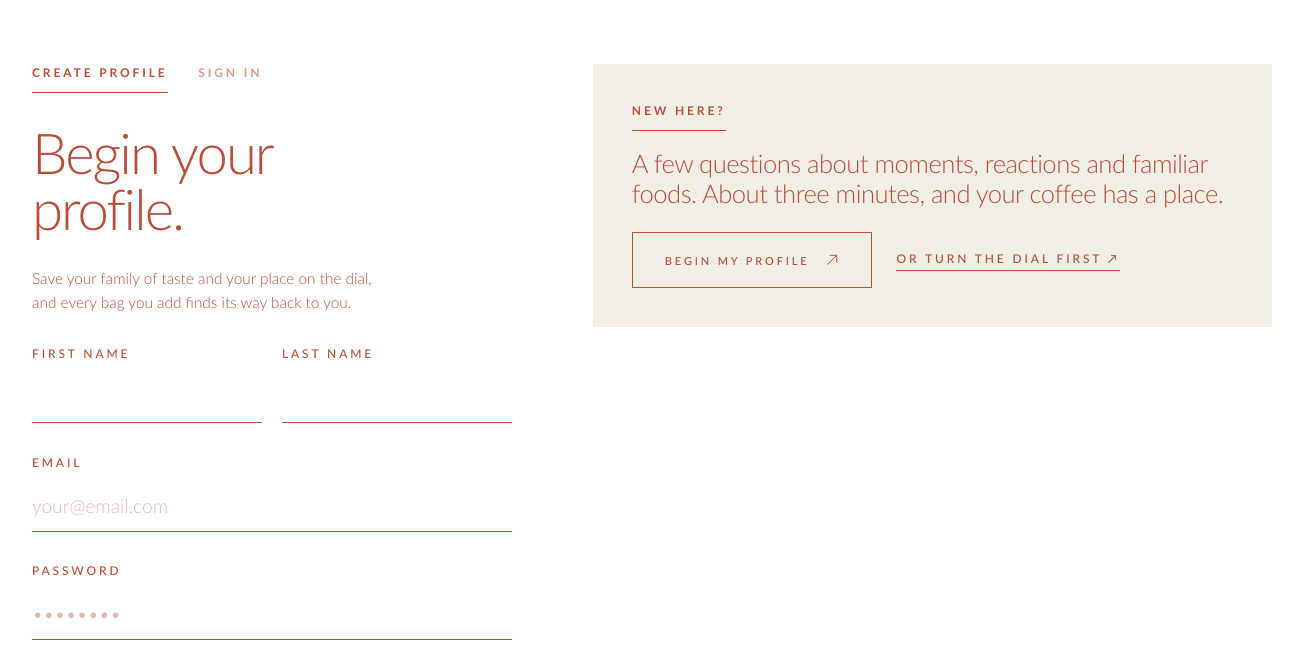
Test: /sign-in › creates a profile with first and last name, default redirect /profile
Type " Ana " into the field labelled "First name".
click(147, 398); type(" Ana ")  # box [32,373,262,423]
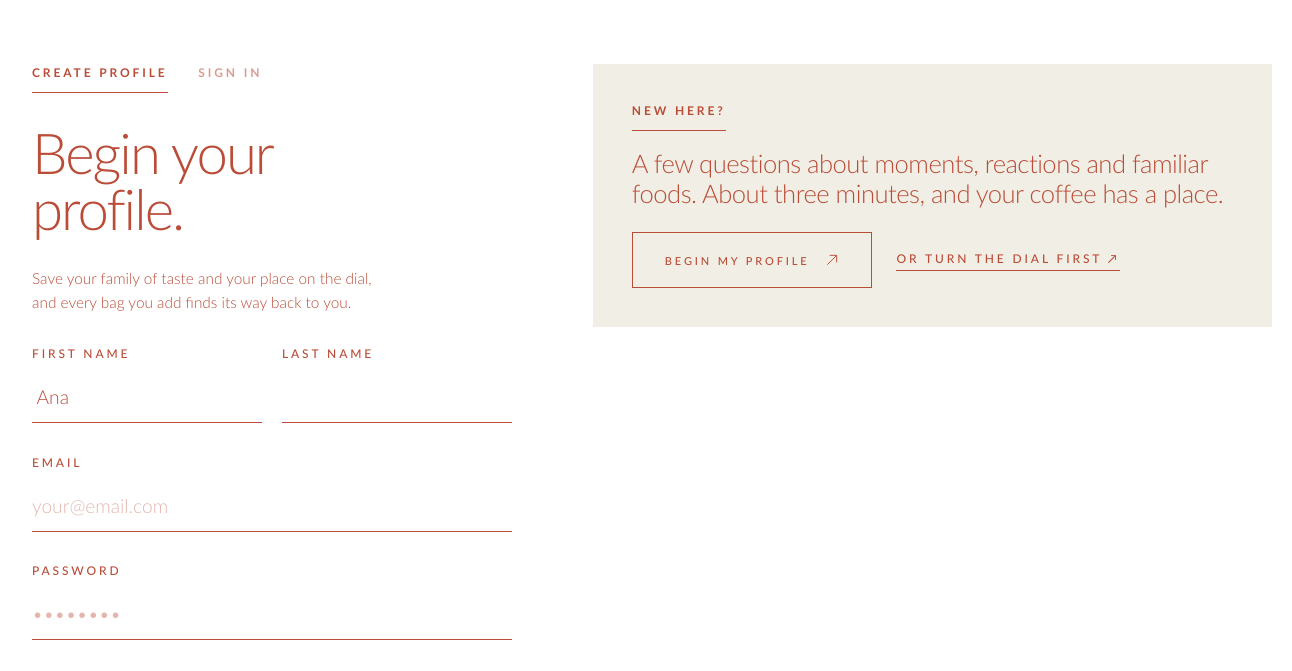
Type "Ruiz" into the field labelled "Last name".
click(397, 398); type("Ruiz")  # box [282,373,512,423]
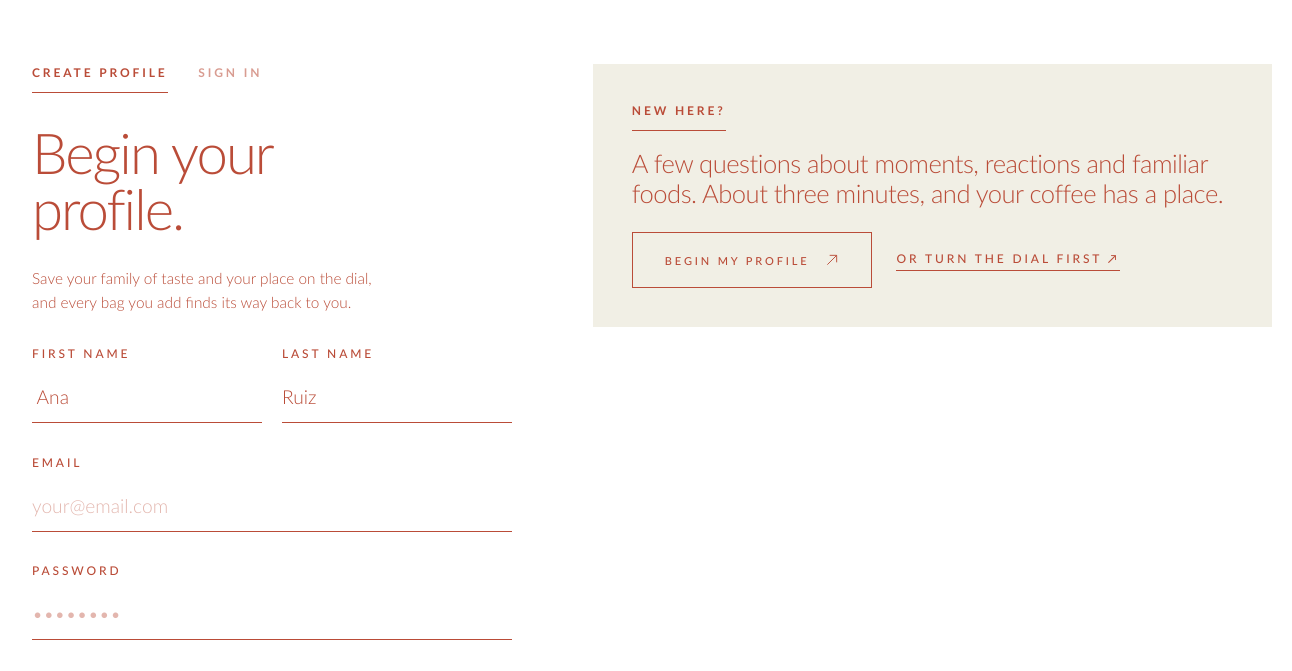
Type "a@b.co" into the field labelled "Email".
click(272, 507); type("a@b.co")  # box [32,482,512,532]
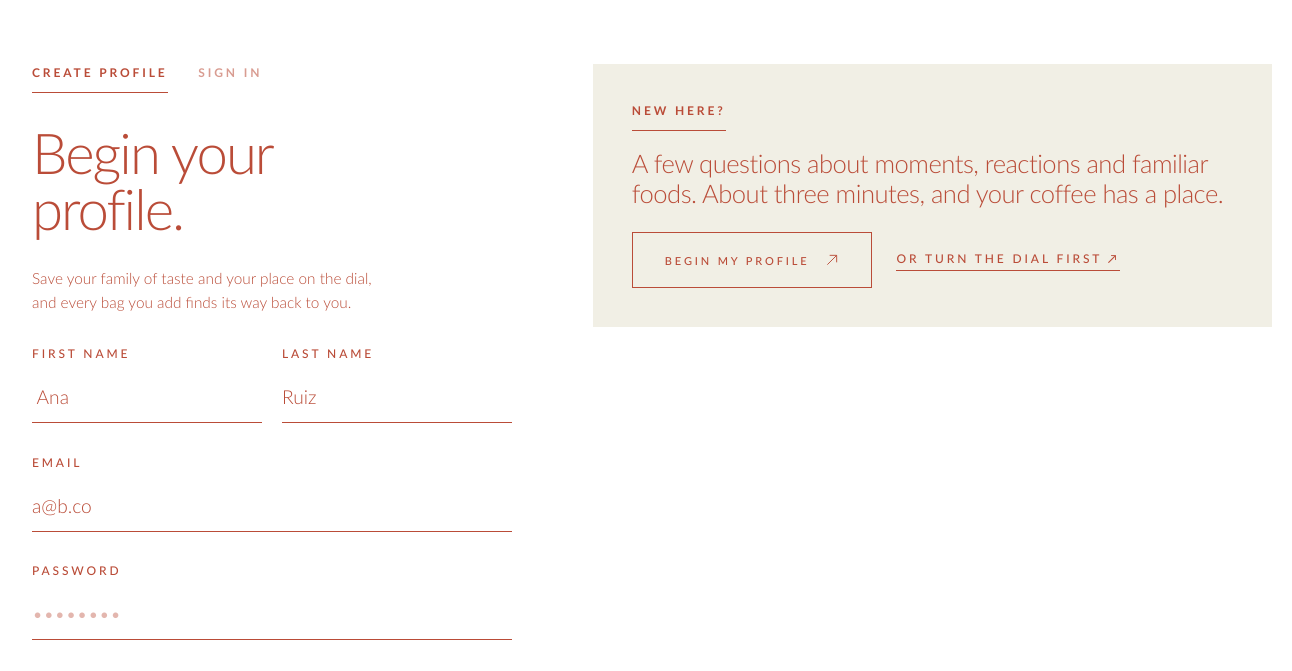
Type "secret1" into the password field labelled "Password".
click(272, 615); type("secret1")  # box [32,590,512,640]
(page scrolled)
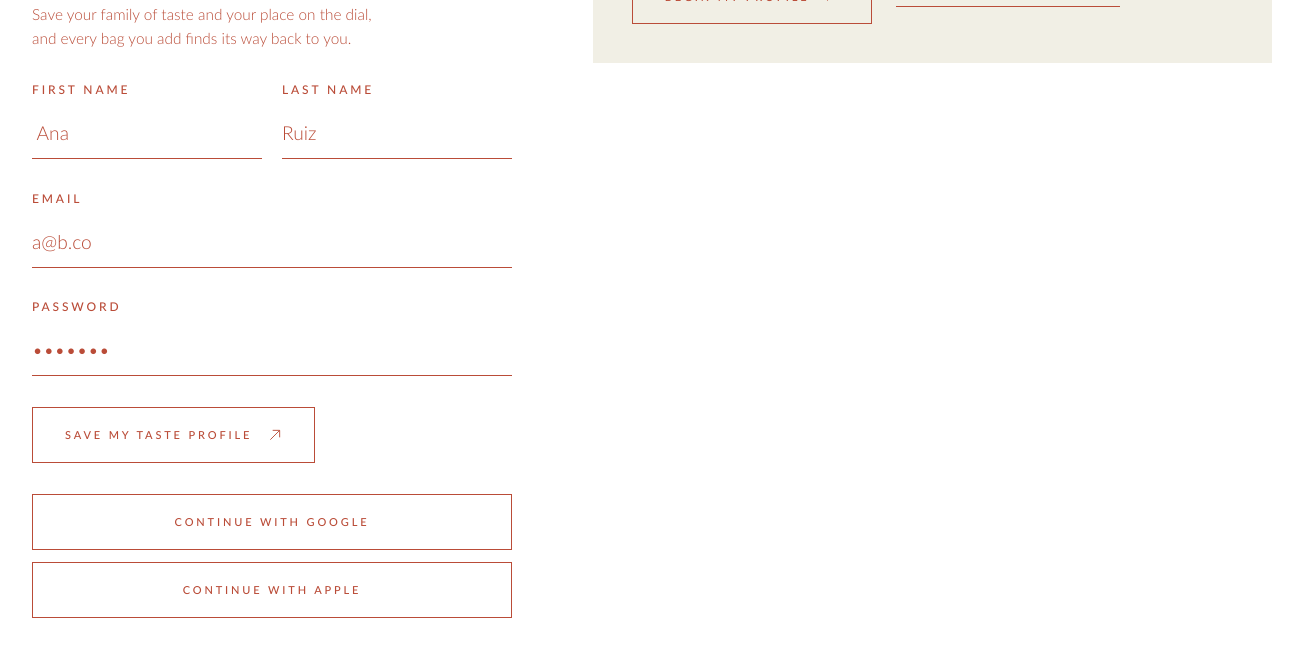
Click the button with test id "sign-in-submit".
click(174, 435)  # box [32,407,315,463]
(page scrolled)
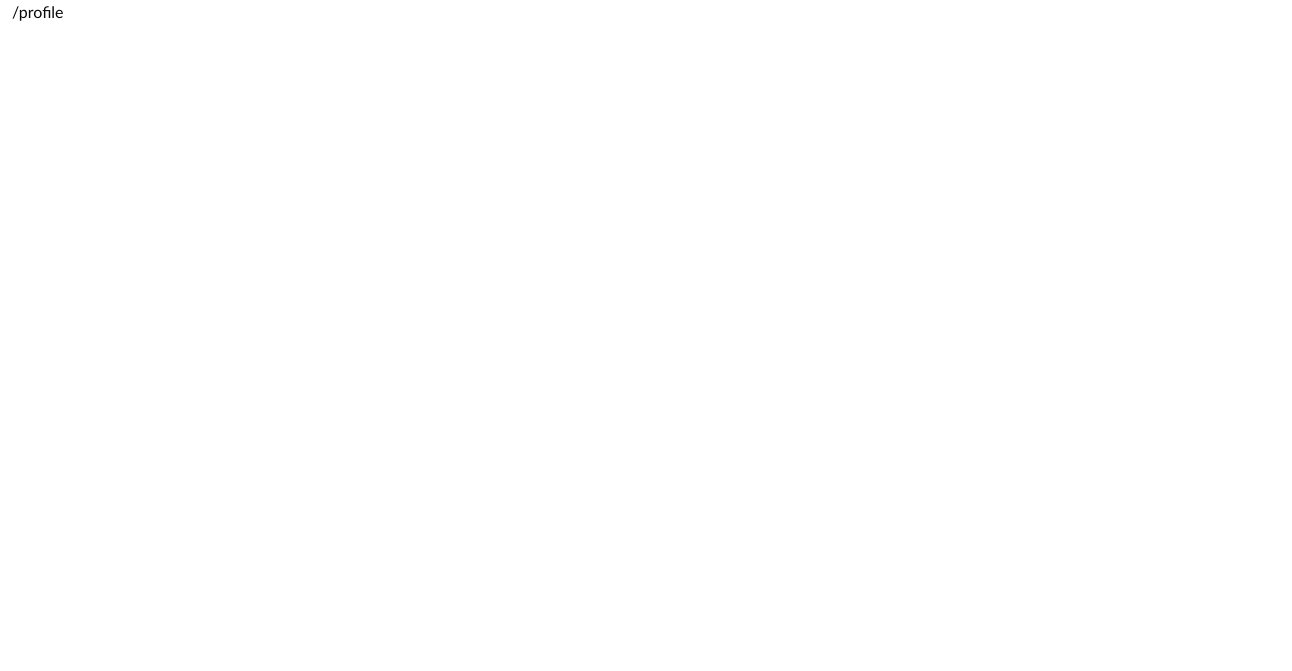
Result: the text with test id "where" reads "/profile" at [12,2,64,21]
